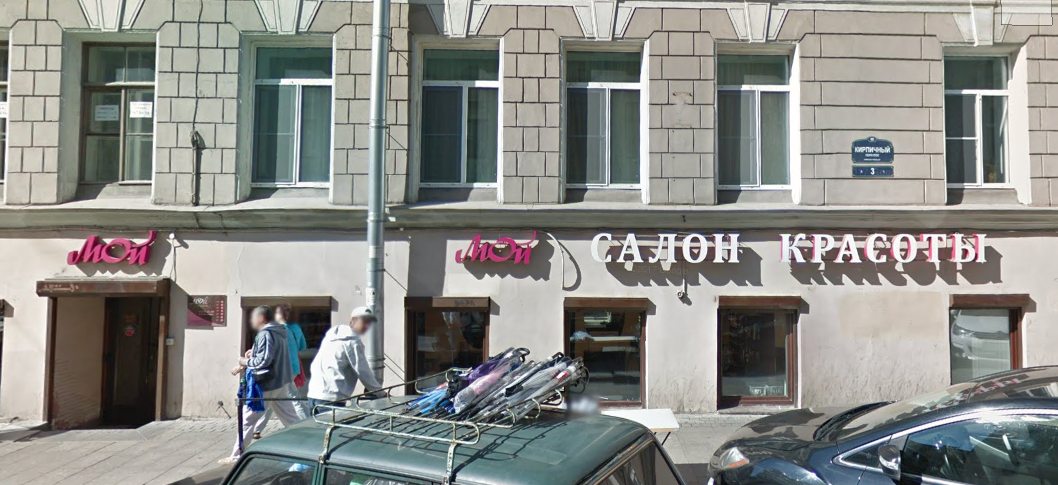door: (36, 284, 165, 424)
signboard: (587, 228, 997, 275), (65, 223, 164, 274), (450, 224, 541, 271)
window: (250, 42, 330, 183), (570, 48, 644, 191), (419, 46, 496, 183), (80, 40, 148, 185), (716, 53, 787, 191), (938, 54, 1010, 189), (712, 299, 790, 405), (569, 305, 645, 405), (401, 294, 490, 365), (949, 299, 1012, 381)
